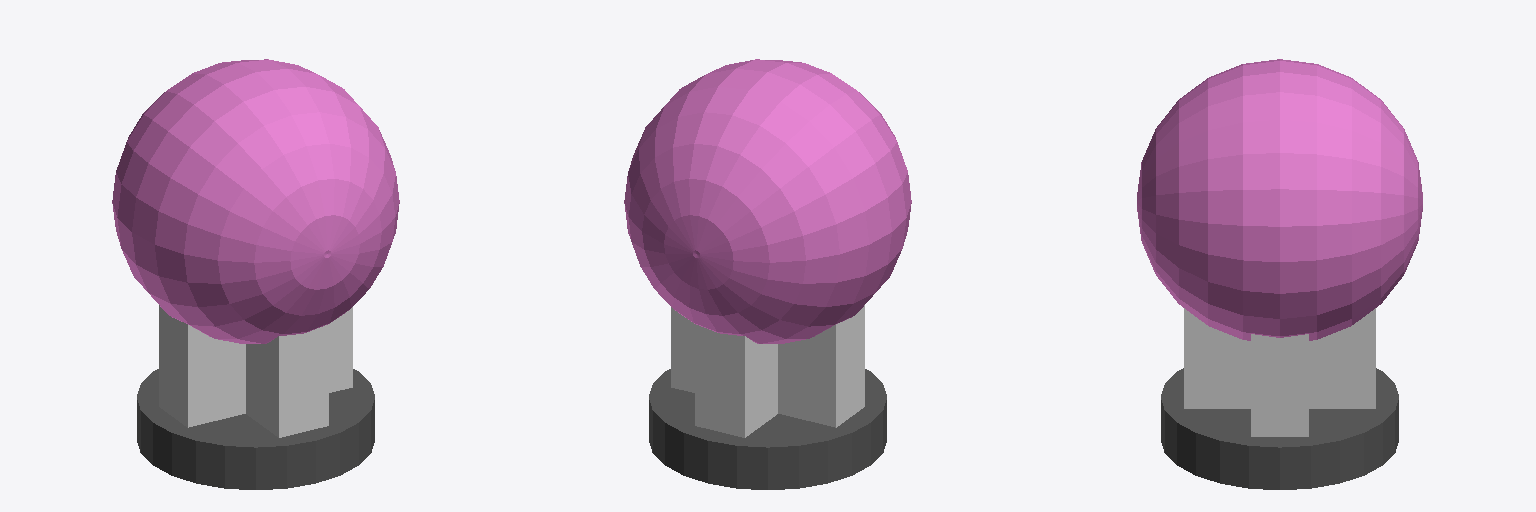
Rendered from gems_opal_6.obj.
3 views of the same model, side by side, from view 1: azimuth 30°, elevation 25°; view 2: azimuth 150°, elevation 25°; view 3: azimuth 270°, elevation 25° (orthographic).
Visible parts, largest first — view 1: mergedBlocks; view 2: mergedBlocks; view 3: mergedBlocks.
Part boxes in pixels (x1,y1,x2,y2): mergedBlocks: (112,59,399,489); mergedBlocks: (624,59,911,489); mergedBlocks: (1137,59,1422,489).
Bounding box in the file's own units: 1.2 × 1.7 × 1.2.